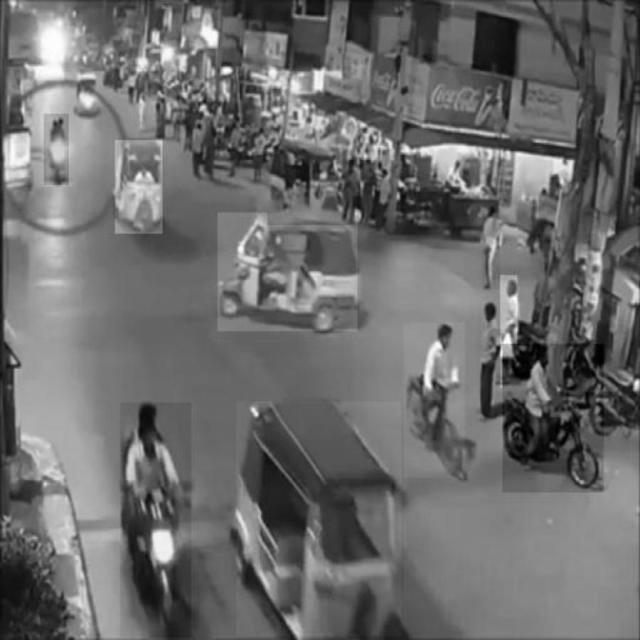person: (478, 304, 498, 417), (499, 275, 517, 387), (483, 204, 500, 290)
vehicle: (236, 402, 401, 636), (120, 403, 191, 637), (218, 213, 358, 331), (503, 344, 604, 492), (404, 322, 465, 476), (268, 139, 356, 225), (115, 141, 162, 234), (44, 114, 69, 185)
